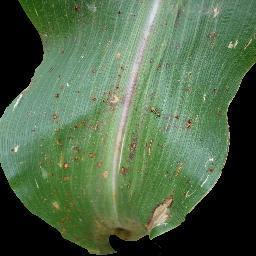Corn_Common_Rust: (121, 0, 220, 176), (51, 63, 120, 180), (44, 198, 109, 256), (108, 189, 188, 234), (12, 66, 39, 109), (226, 30, 256, 60), (38, 26, 60, 52), (63, 0, 96, 14), (7, 139, 24, 159)
